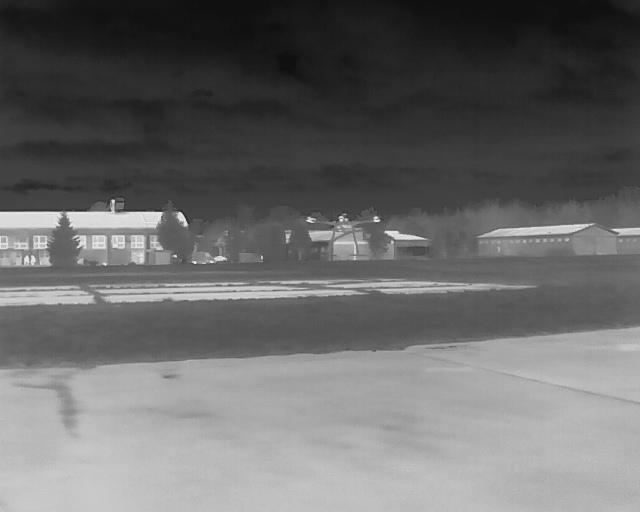drone: (291, 204, 391, 263)
